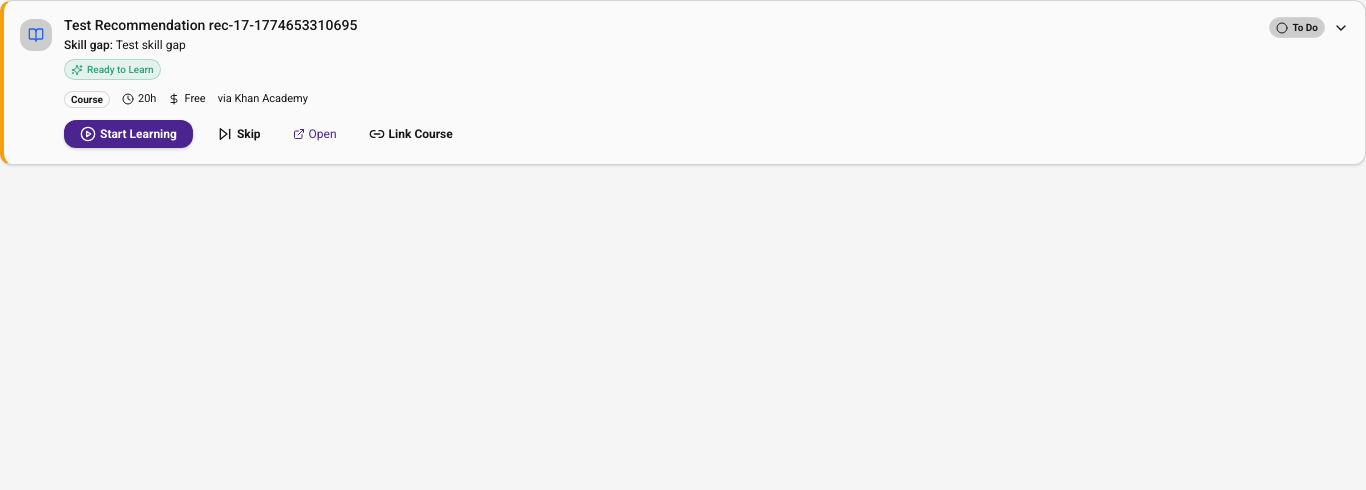
Test: RecommendationCard › User Interactions › expands card when clicking on main content
Expected: the text "What To Do" is not shown
# Click to expand
Click the heading "Test Recommendation rec-17-1774653310695": (211, 26) [64, 17, 357, 34]
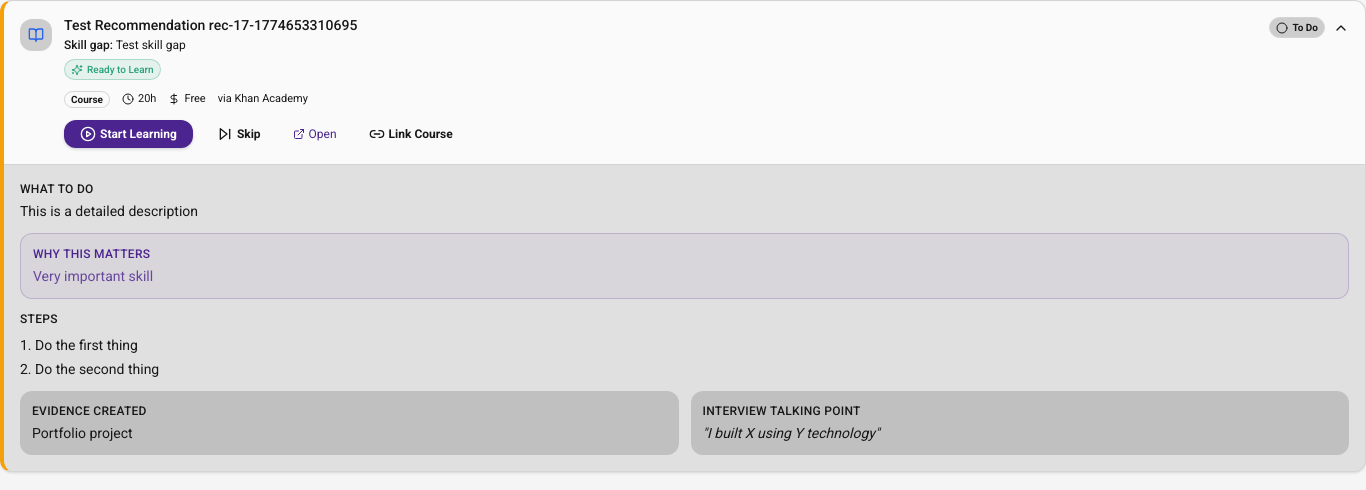
Expected: the heading "What To Do" is shown, [20, 182, 94, 196]
Expected: the text "This is a detailed description" is shown, [20, 202, 198, 218]
